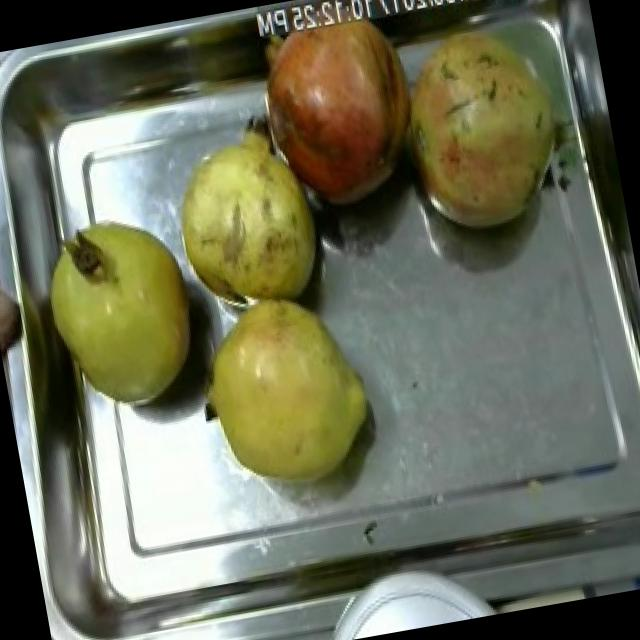fruit: (175, 271, 389, 513), (235, 0, 440, 227), (25, 196, 214, 426), (154, 110, 338, 330), (392, 52, 580, 250)
